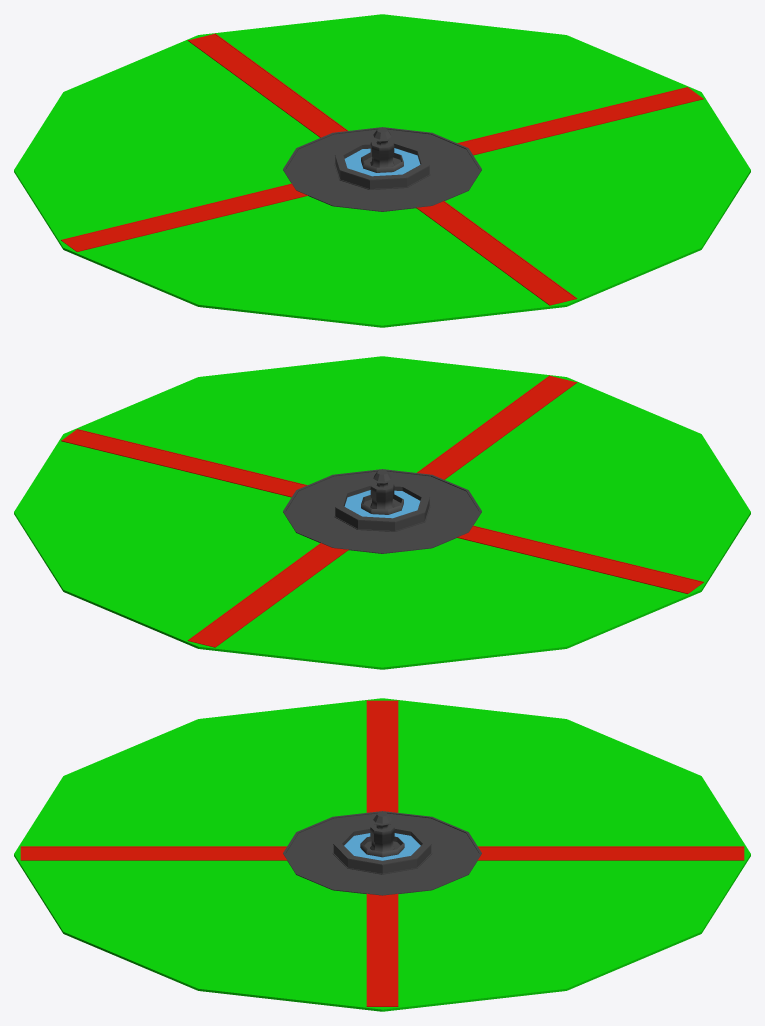
The model's file is centro.fbx.
3 renders of one model, top to bottom at view 1: azimuth 30°, elevation 25°; view 2: azimuth 150°, elevation 25°; view 3: azimuth 270°, elevation 25°, orthographic.
Visible parts, largest first — view 1: FloorCenter; view 2: FloorCenter; view 3: FloorCenter.
Boxes of the visible parts, left/top/right/bottom form: FloorCenter: left=14, top=14, right=750, bottom=327; FloorCenter: left=14, top=356, right=750, bottom=669; FloorCenter: left=14, top=698, right=750, bottom=1011.
Bounding box in the file's own units: 4962 × 312 × 4962.
